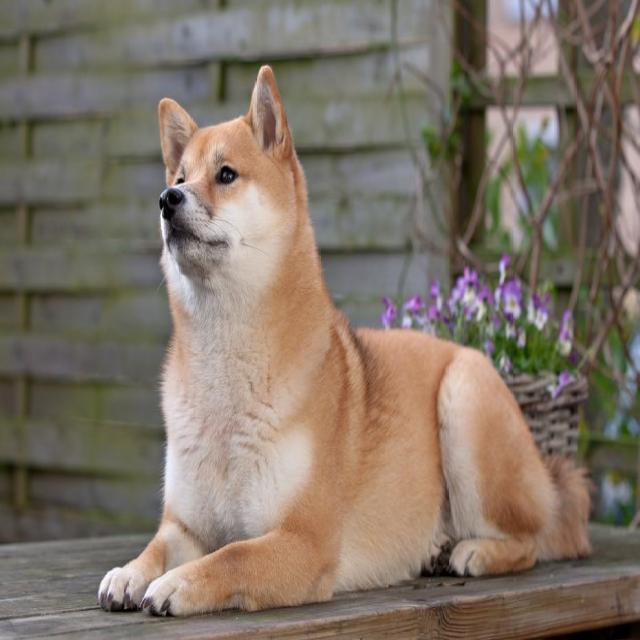adult_dog: (86, 61, 599, 617)
